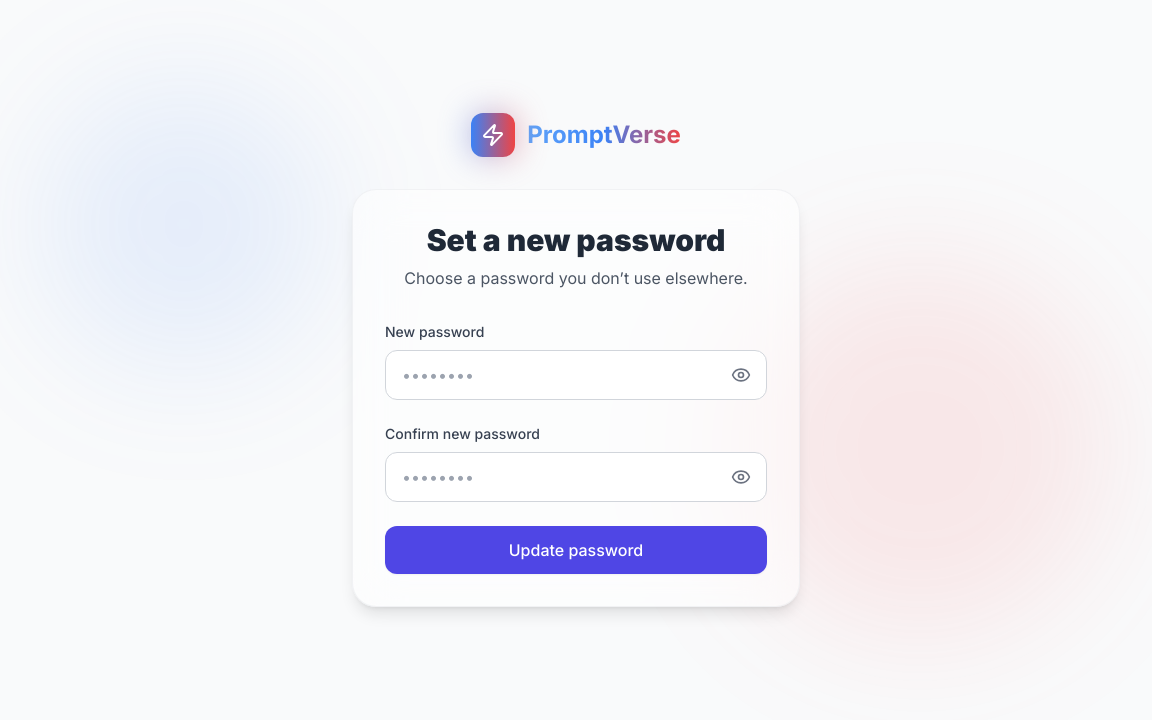
Scenario: ResetPasswordPage › checks the confirmation on the client
In the password field labelled "New password": coordinates (576, 375) [385,350,767,400], type "correct-horse-battery"
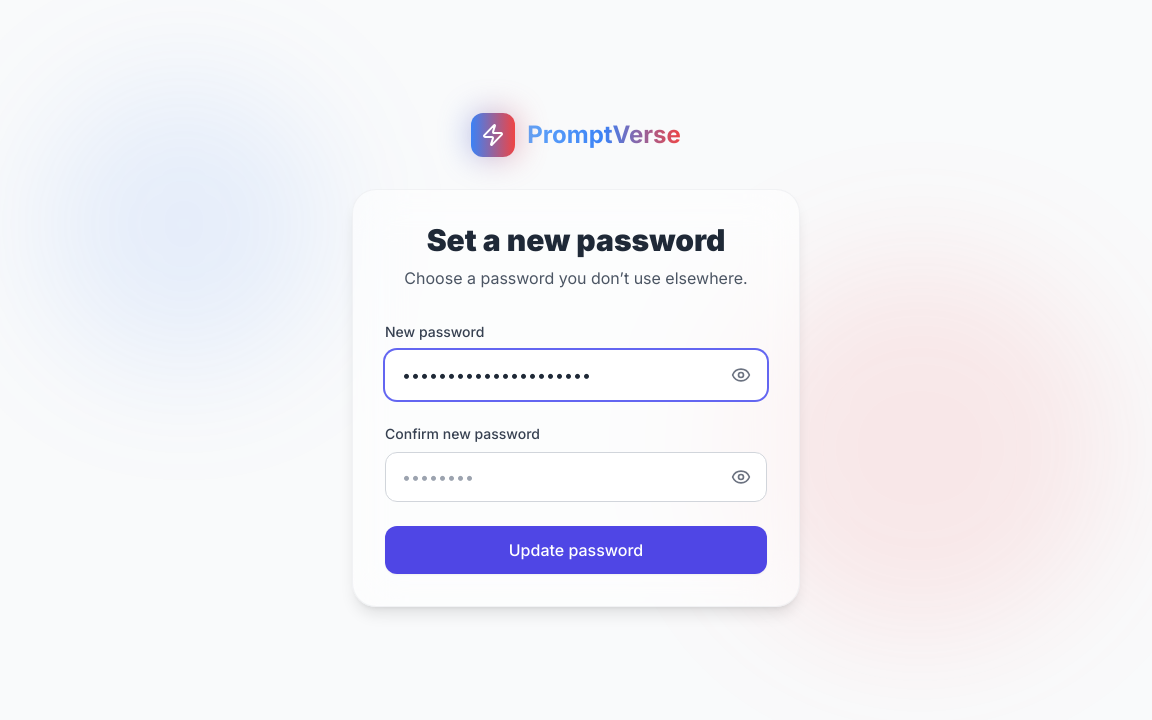
In the password field labelled "Confirm new password": coordinates (576, 477) [385,452,767,502], type "something-else-1"
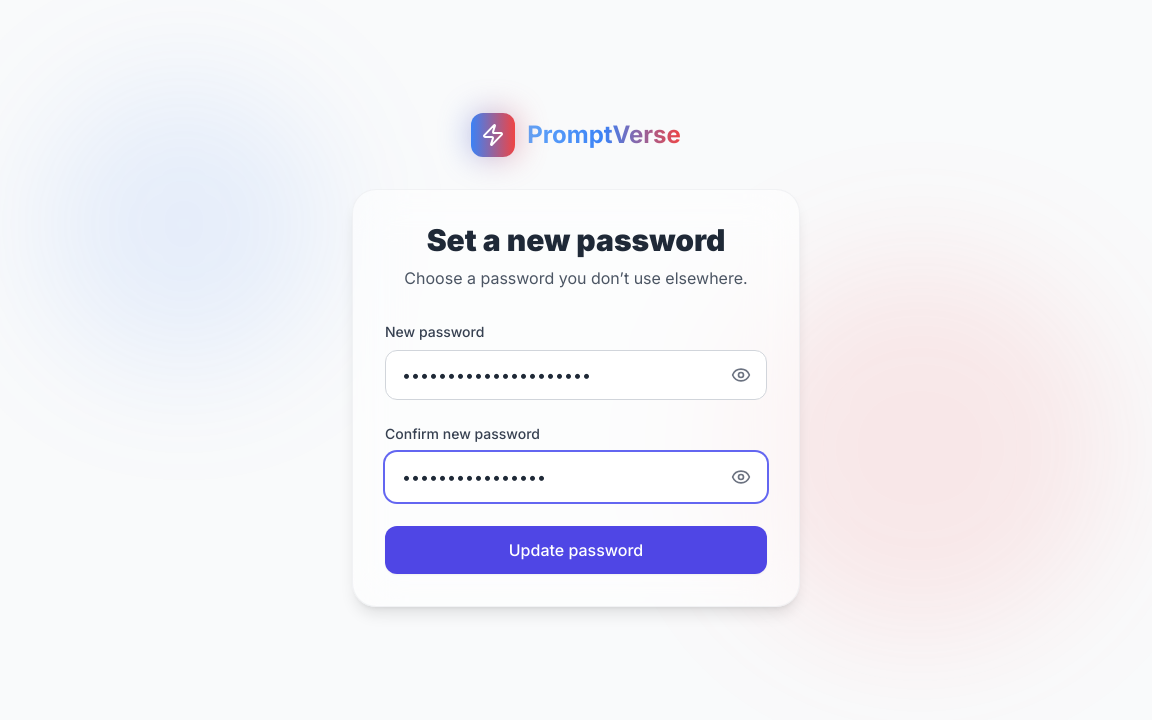
Click the button "Update password": coordinates (576, 550) [385,526,767,574]
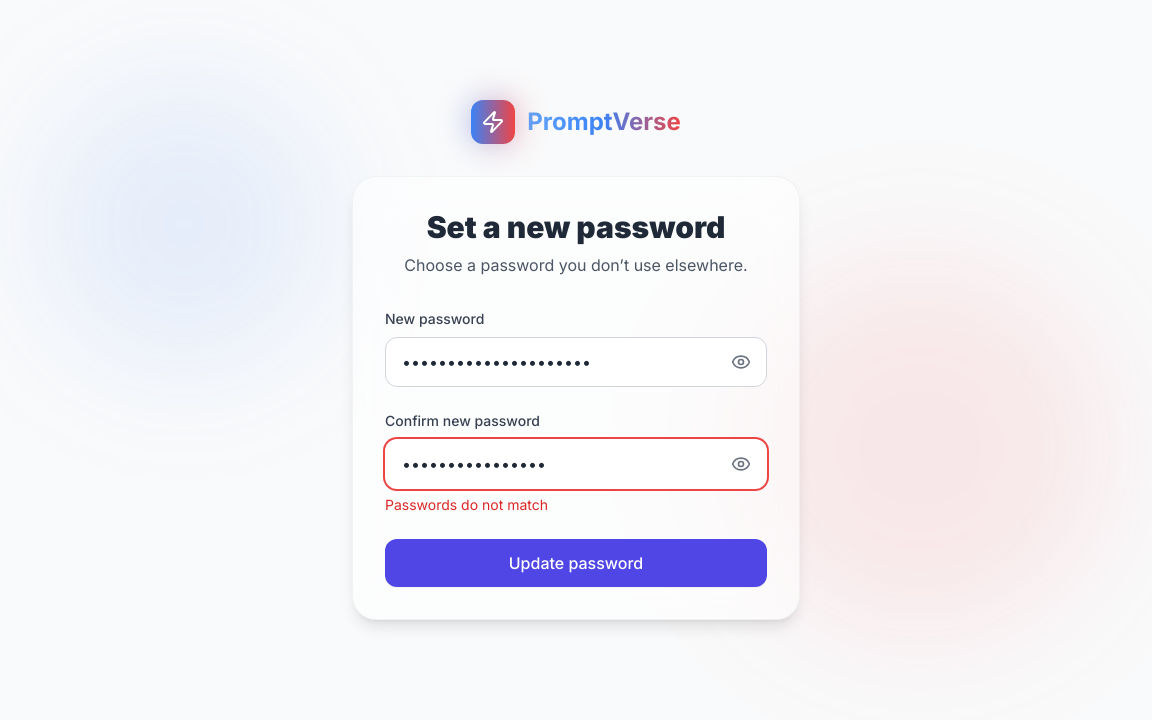
Expected: the text "Passwords do not match" is shown, [385,496,548,513]
